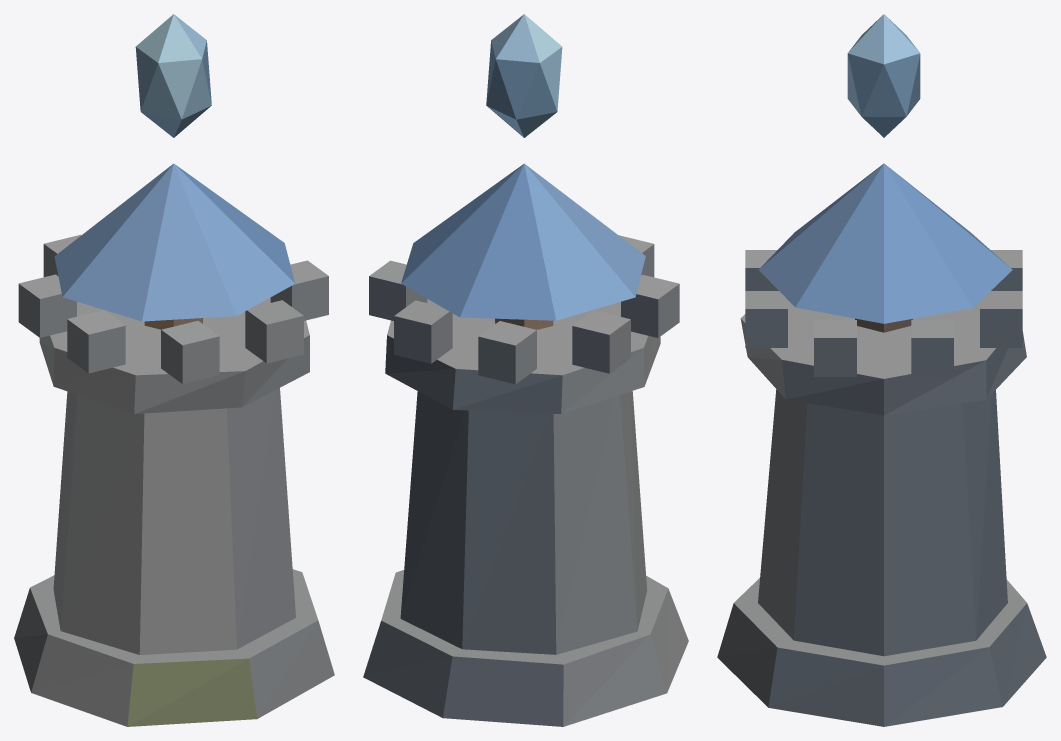
File: tower_blue.glb
3 renders of one model, left to right at view 1: azimuth 30°, elevation 25°; view 2: azimuth 150°, elevation 25°; view 3: azimuth 270°, elevation 25°, orthographic.
Parts seen in each view (by area): view 1: tower_blue, crystal_blue; view 2: tower_blue, crystal_blue; view 3: tower_blue, crystal_blue.
Boxes of the visible parts, box(x1,y1,x2,y2) form: tower_blue: box(14, 163, 334, 726); crystal_blue: box(135, 14, 211, 137); tower_blue: box(363, 163, 688, 726); crystal_blue: box(486, 14, 562, 137); tower_blue: box(717, 163, 1046, 726); crystal_blue: box(847, 14, 920, 137).
Size of the model in its own units: 2.46 by 5.31 by 2.47.
